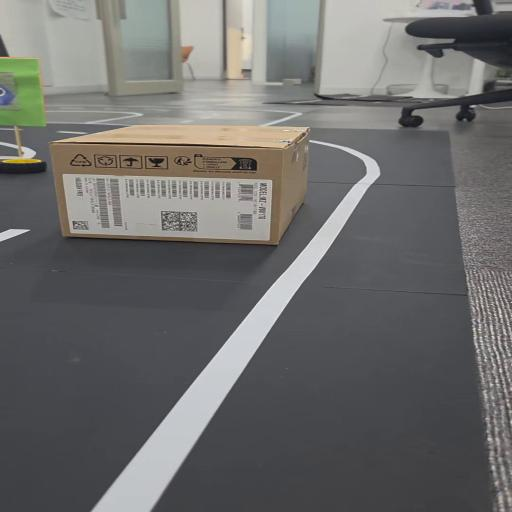Box: (46, 117, 315, 251)
